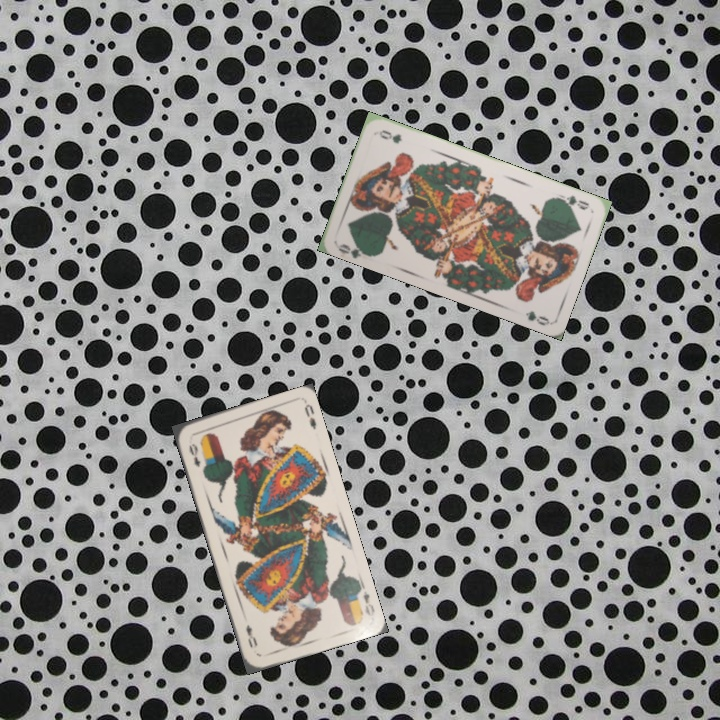EO: (352, 580, 377, 619), (185, 439, 203, 470)
GO: (334, 238, 374, 260), (553, 191, 592, 213)
